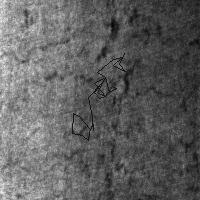crazing: (8, 27, 172, 110), (50, 115, 147, 199), (72, 53, 125, 140)
